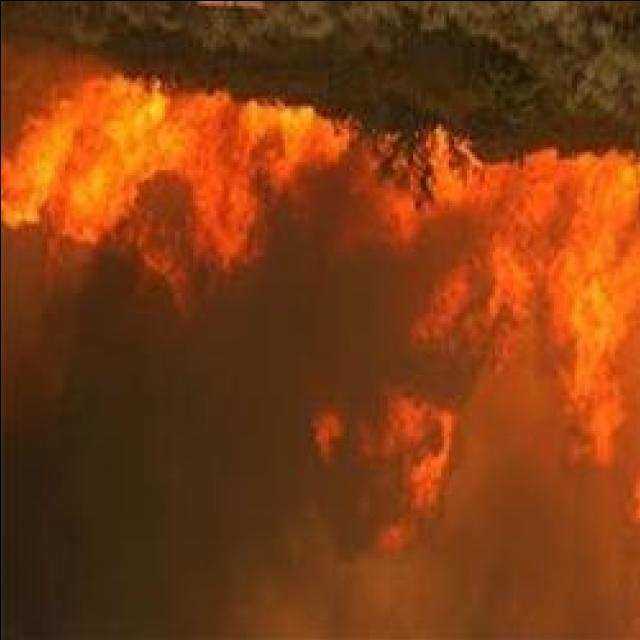fire: (2, 89, 314, 234), (544, 158, 640, 470)
smoke: (315, 243, 460, 558)
